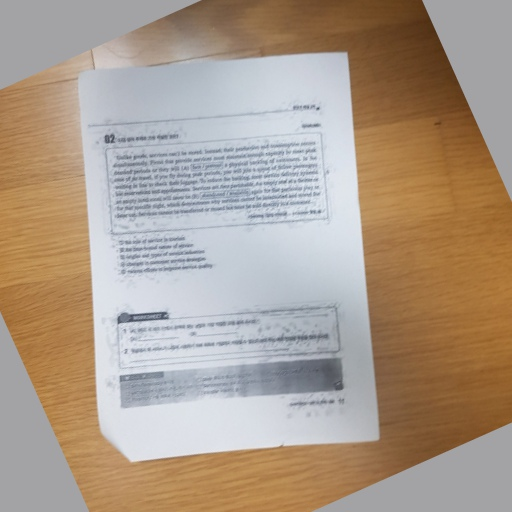Paper_2: (69, 51, 388, 472)
